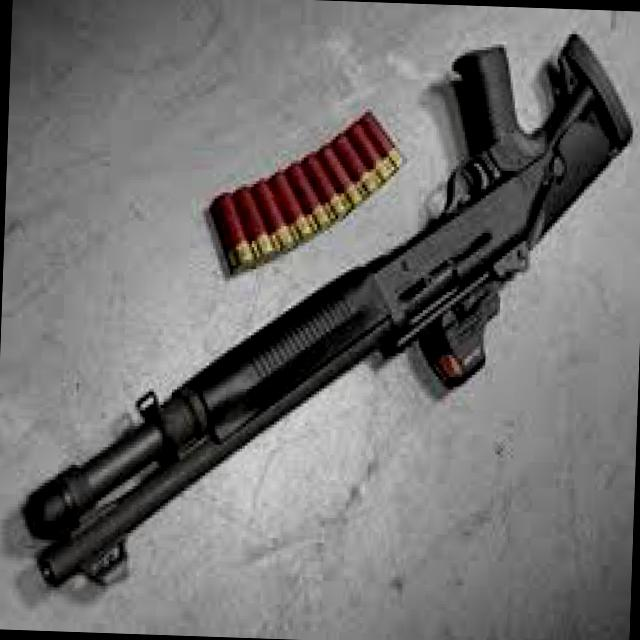long weapon: (10, 35, 640, 632)
